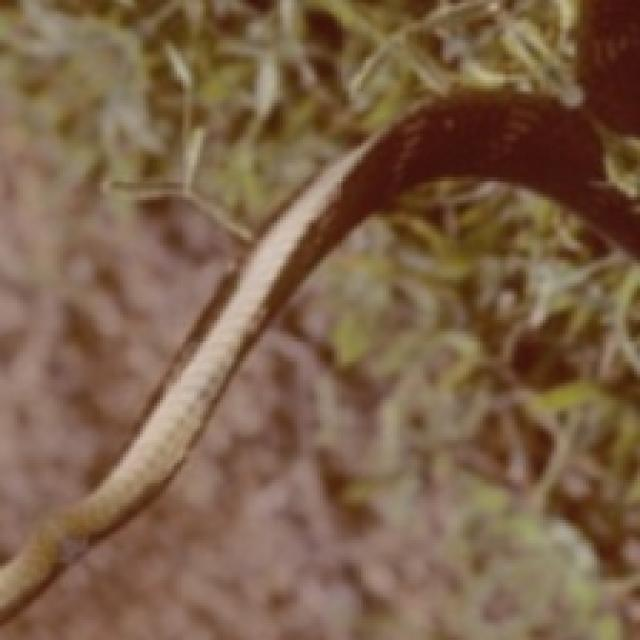king cobra: (0, 0, 580, 560), (0, 180, 637, 637)
